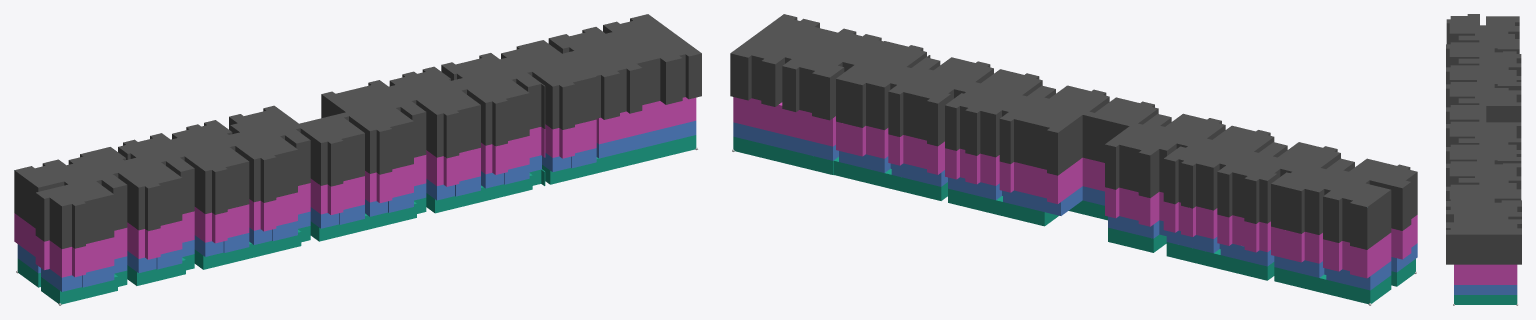
Rendered from building_3.glb.
3 renders of one model, left to right at view 1: azimuth 30°, elevation 25°; view 2: azimuth 150°, elevation 25°; view 3: azimuth 270°, elevation 25°, orthographic. The views are drawn at different scales.
Visible parts, largest first — view 1: Line007, Line003, Line001, Line002, Line005, Line006, Line004, flat_209, flat_309, flat_609, flat_509, flat_409 (+63 smaller); view 2: Line007, Line001, Line003, Line005, Line002, Line006, Line004, flat_215, flat_615, flat_415, flat_315, flat_515 (+60 smaller); view 3: Line007, Line005, Line002, Line003, Line001, flat_614, flat_621, flat_421, flat_521, flat_620, flat_420, flat_520 (+21 smaller).
Part boxes in pixels (x1,y1,x2,y2): Line007: [14, 14, 701, 206]; Line003: [14, 106, 696, 263]; Line001: [17, 135, 696, 291]; Line002: [17, 120, 696, 278]; Line005: [14, 97, 696, 249]; Line006: [14, 67, 701, 220]; Line004: [14, 82, 701, 235]; flat_209: [35, 250, 114, 277]; flat_309: [35, 236, 114, 263]; flat_609: [35, 193, 114, 220]; flat_509: [35, 208, 114, 234]; flat_409: [35, 222, 114, 248]; Line007: [730, 14, 1417, 207]; Line001: [733, 136, 1415, 293]; Line003: [733, 108, 1417, 264]; Line005: [733, 97, 1417, 250]; Line002: [733, 122, 1417, 276]; Line006: [730, 67, 1417, 221]; Line004: [730, 82, 1417, 236]; flat_215: [999, 173, 1082, 204]; flat_615: [999, 115, 1082, 146]; flat_415: [999, 144, 1082, 175]; flat_315: [999, 158, 1082, 189]; flat_515: [999, 130, 1082, 161]; Line007: [1446, 14, 1521, 234]; Line005: [1454, 264, 1517, 274]; Line002: [1454, 285, 1517, 294]; Line003: [1454, 275, 1517, 284]; Line001: [1454, 295, 1517, 304]; flat_614: [1486, 95, 1521, 116]; flat_621: [1446, 228, 1485, 244]; flat_421: [1446, 255, 1485, 264]; flat_521: [1446, 245, 1485, 254]; flat_620: [1486, 224, 1521, 244]; flat_420: [1486, 255, 1521, 264]; flat_520: [1486, 245, 1521, 254].
Size of the model in its own units: 1.42 by 0.2133 by 0.2047.
